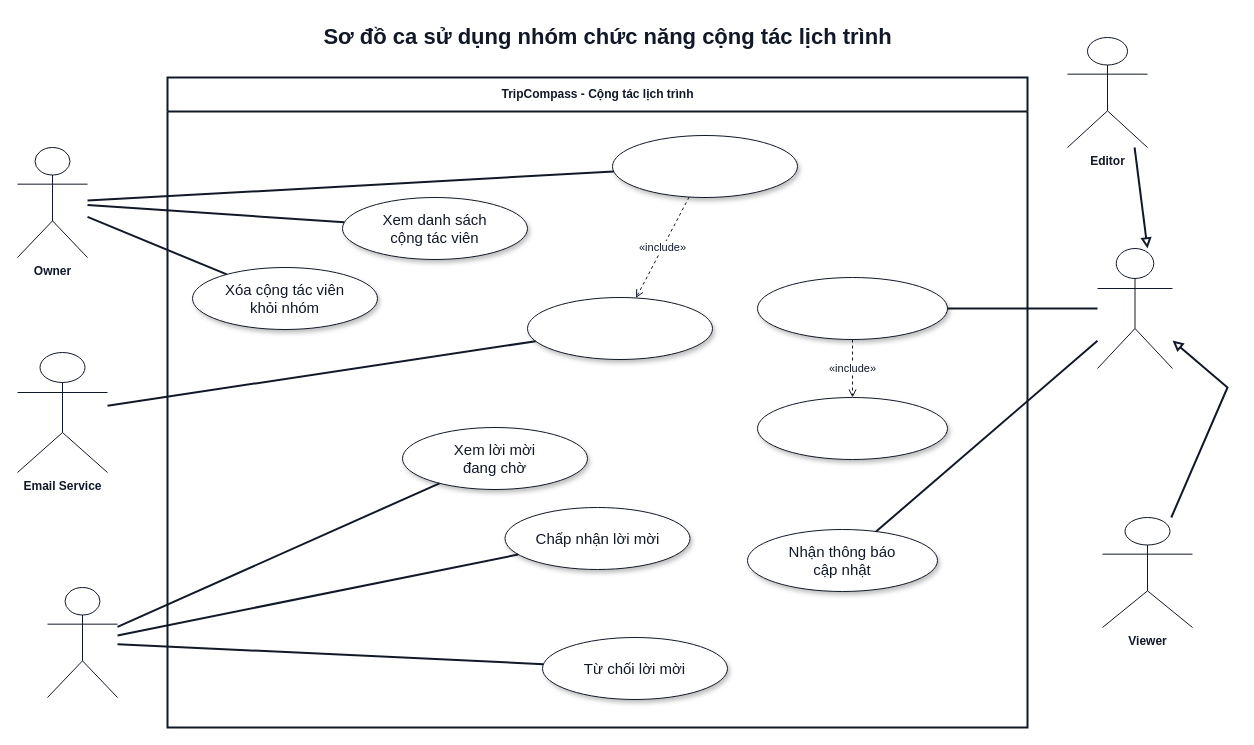
This 1254x745 diagram has some shape labels left out. Here are the shapes that lost their labels. From the top down, the centre of each, then its label:
point (706, 167): Mời cộng tác viên
point (853, 309): Cộng tác trên lịch trình
point (1134, 308): Collaborator
point (620, 329): Gửi email mời
point (853, 429): Cập nhật thay đổi lịch trình
point (82, 642): Invitee
